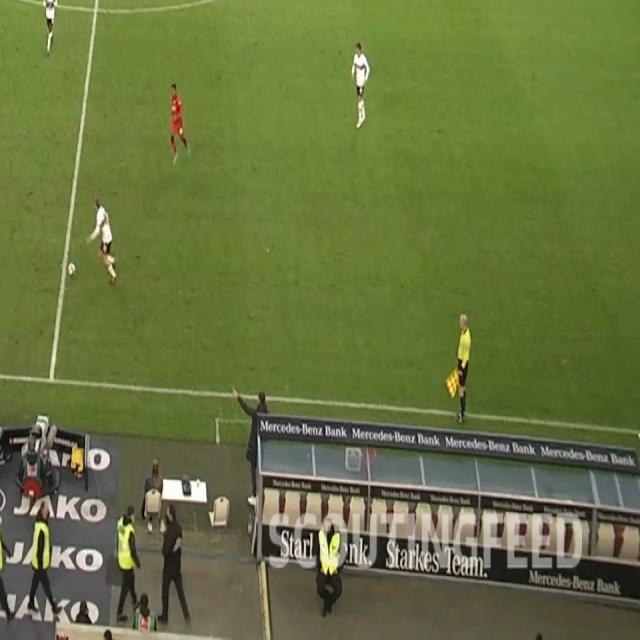ball: (67, 262, 77, 278)
